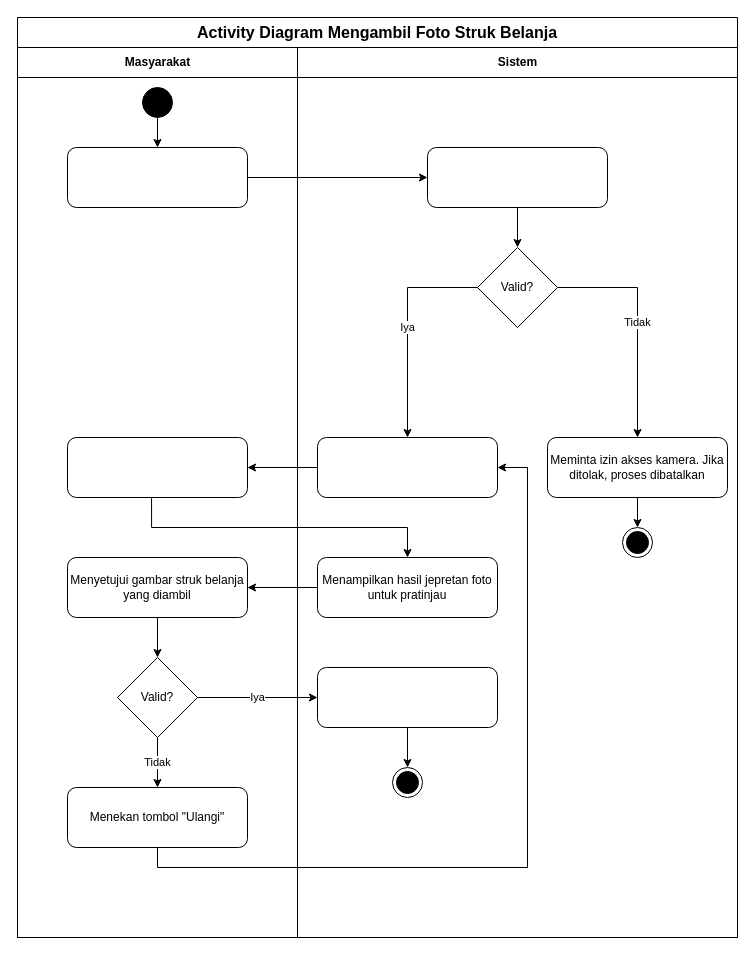
Some shapes in this 755 by 955 pixel diagram are drawn without their labels. Here are the shapes that lost their labels. From the top down, the centre of each, then its label:
[157,177]: Menekan tombol "Kamera"
[517,177]: Memeriksa izin akses kamera perangkat
[157,467]: Membidik dan mengambil foto struk belanja fisik
[407,467]: Mengaktifkan antarmuka kamera
[407,697]: Gambar struk siap diproses oleh sistem lebih lanjut
